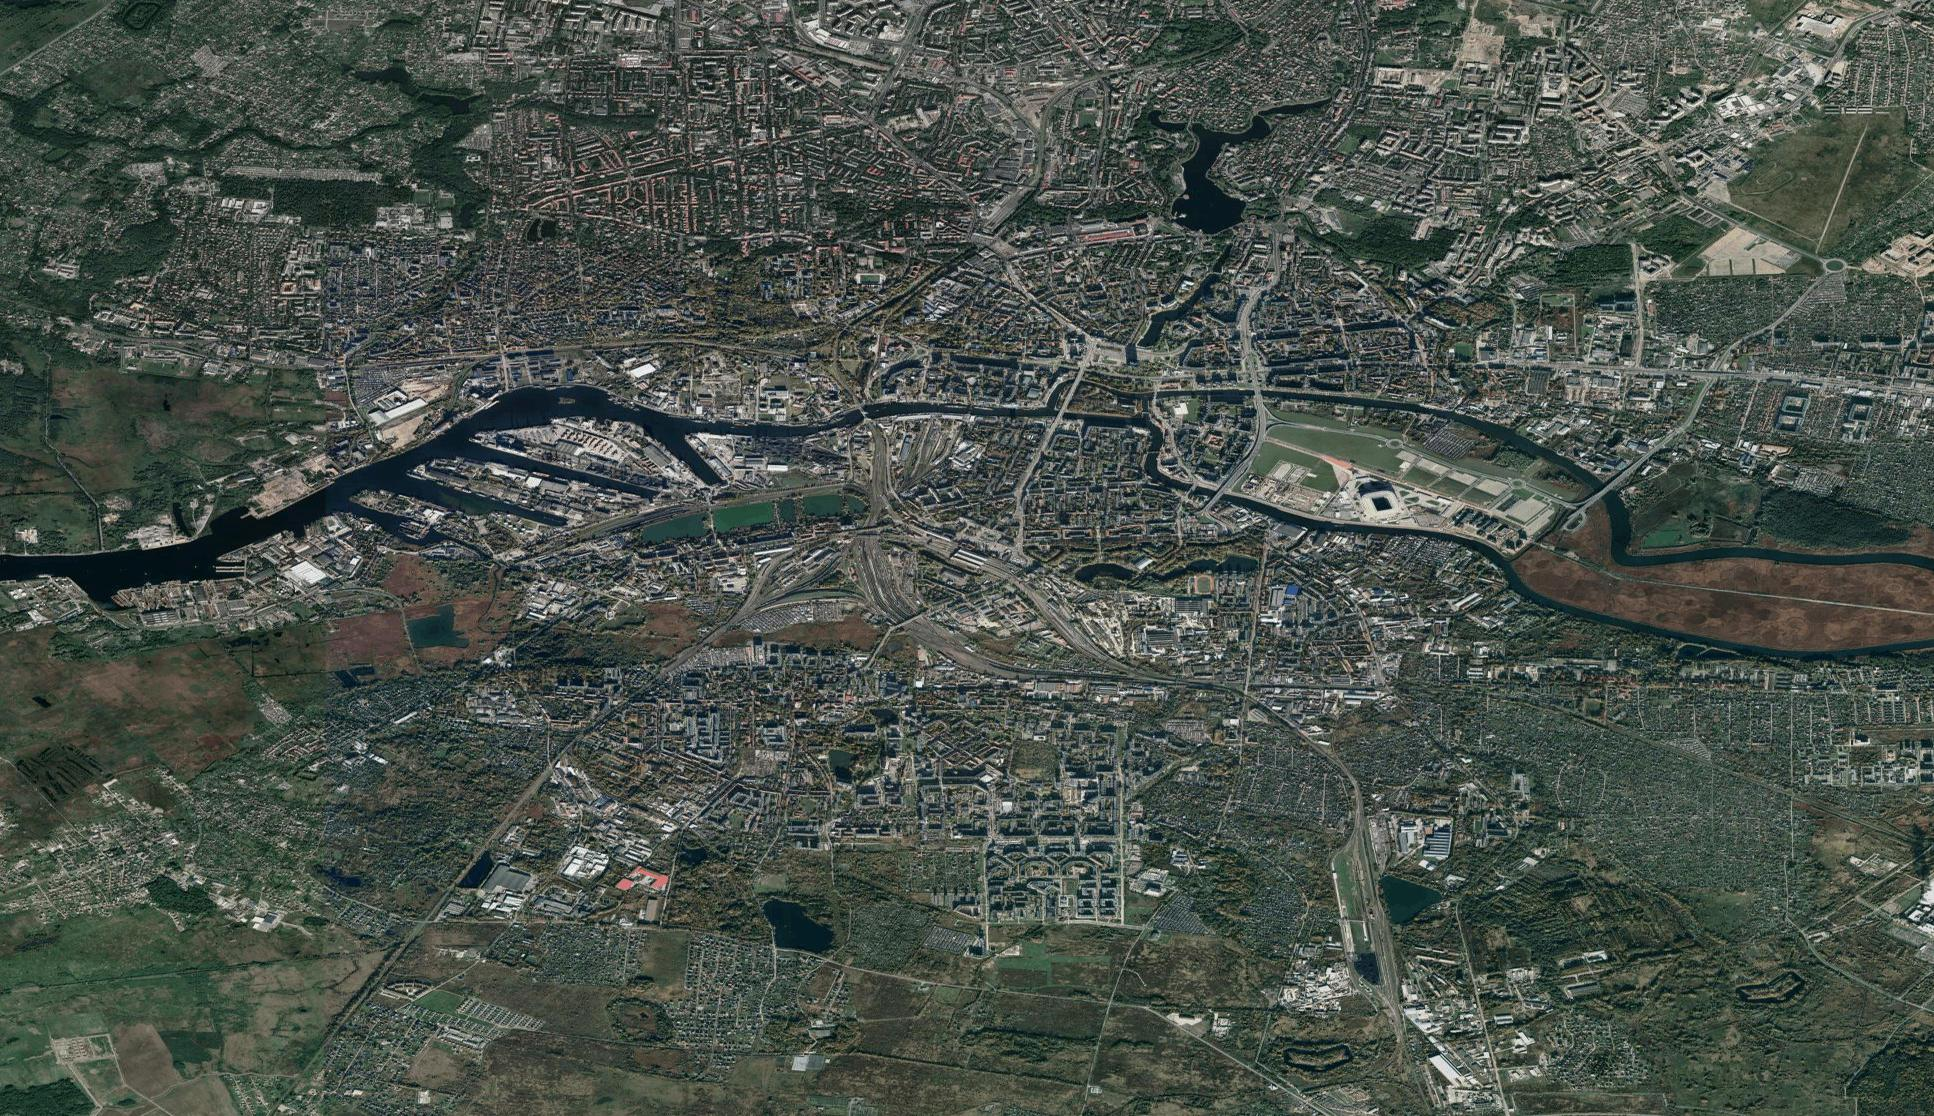bridge: (1207, 488, 1227, 510), (1591, 481, 1617, 496), (705, 510, 716, 541), (854, 403, 871, 420), (1253, 384, 1265, 403), (1056, 408, 1065, 426)
harbor: (316, 388, 725, 565), (1, 502, 278, 620)
train_station: (764, 533, 855, 602), (922, 530, 1002, 574)
